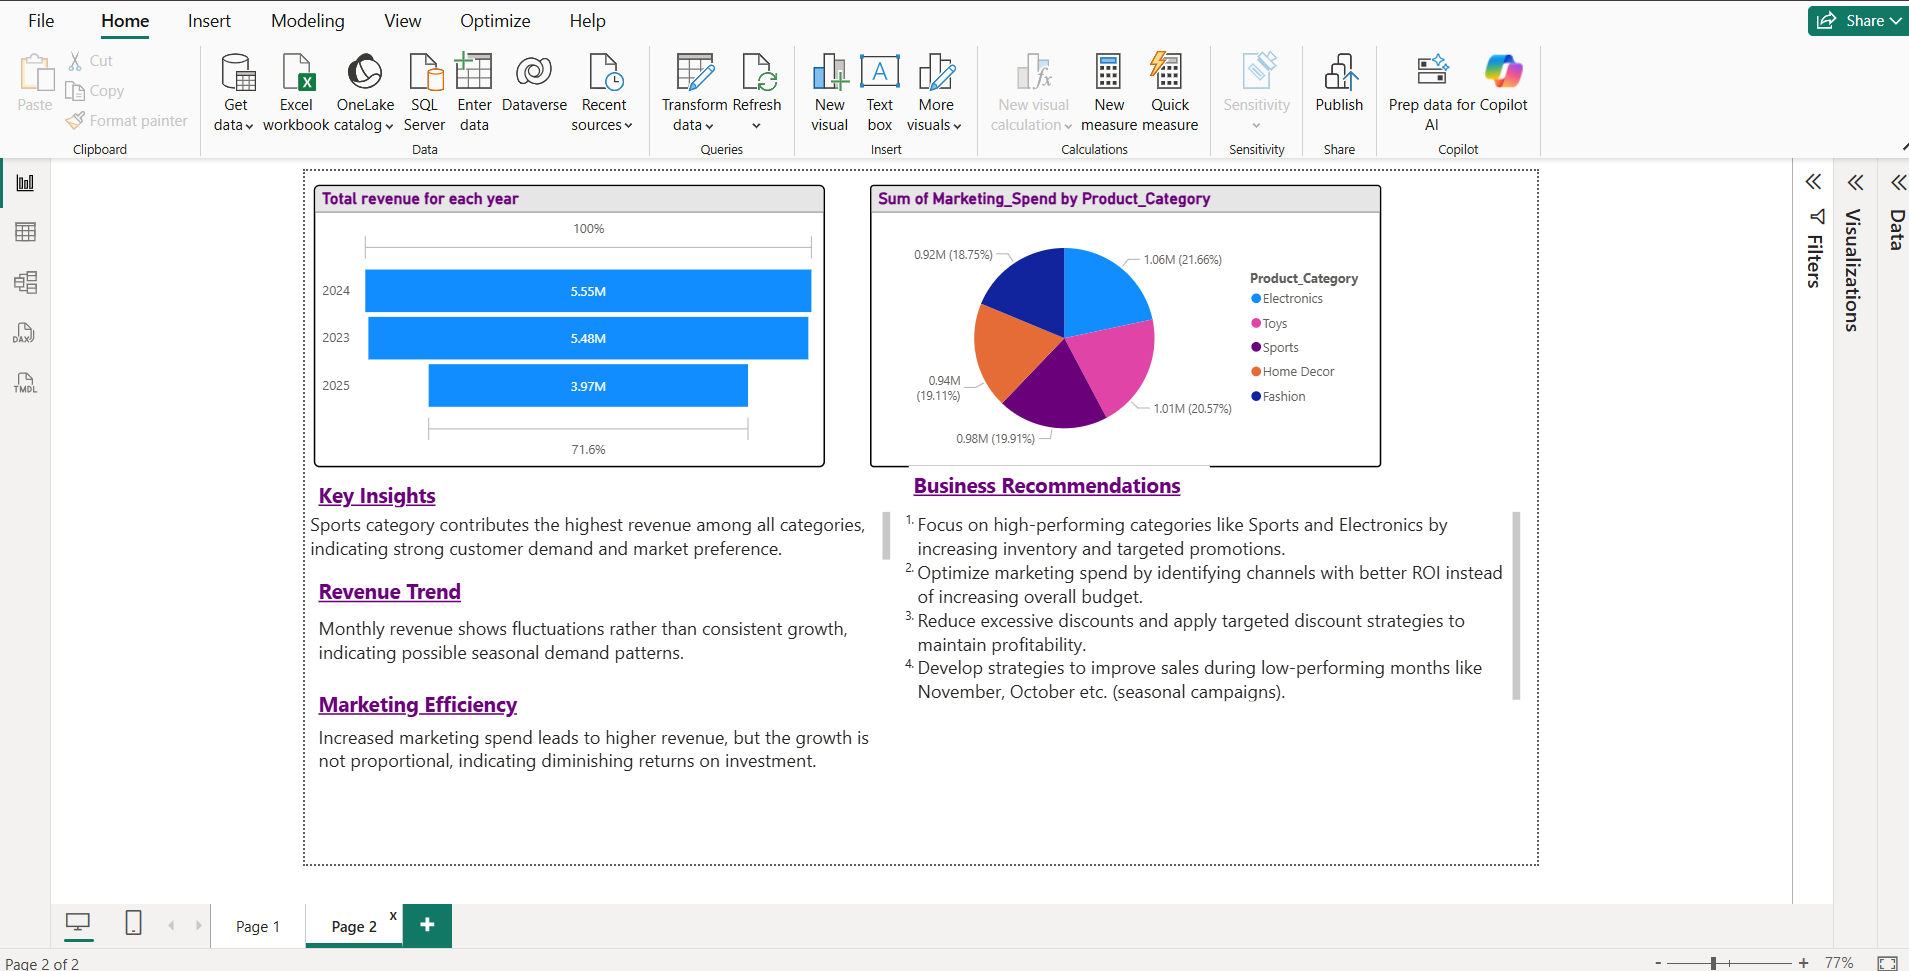

The dashboard page shown, as its layout file describes it:
{"tool":"powerbi","page":{"name":"Page 2","canvas":[1280,720],"ordinal":1},"visuals":[{"type":"funnel","title":"Total revenue for each year","fields":{"Category":["Ecommerce_Sales_Prediction_Data.Year"],"Y":["Ecommerce_Sales_Prediction_Data.Total Revenue"]},"box":[8.8,13.8,531.2,293.8],"z":0},{"type":"pieChart","fields":{"Category":["Ecommerce_Sales_Prediction_Data.Product_Category"],"Y":["Sum(Ecommerce_Sales_Prediction_Data.Marketing_Spend)"]},"box":[587.5,13.8,531.2,293.8],"z":1000},{"type":"textbox","box":[8.6,316.7,182.2,42.8],"z":2000},{"type":"textbox","box":[0,349.7,612.6,67.3],"z":3000},{"type":"textbox","box":[627.3,306.9,313,42.8],"z":4000},{"type":"textbox","box":[612.6,349.7,654.2,206.7],"z":5000},{"type":"textbox","box":[8.6,417,182.2,40.4],"z":6000},{"type":"textbox","box":[8.6,457.3,604.1,75.8],"z":7000},{"type":"textbox","box":[8.6,533.2,262.9,45.2],"z":8000},{"type":"textbox","box":[8.6,569.8,604.1,64.8],"z":9000}]}

Visuals, with their boxes on the page's 1280x720 design canvas (x1, y1, x2, y2). These are canvas units, not pixel positions in the 1909x971 screenshot, which may show the page scaled, cropped or inside an application window:
"Total revenue for each year" funnel: 9 14 540 308
pieChart - Ecommerce_Sales_Prediction_Data.Product_Category x Sum(Ecommerce_Sales_Prediction_Data.Marketing_Spend): 588 14 1119 308
textbox: 9 317 191 360
textbox: 0 350 613 417
textbox: 627 307 940 350
textbox: 613 350 1267 556
textbox: 9 417 191 457
textbox: 9 457 613 533
textbox: 9 533 272 578
textbox: 9 570 613 635
